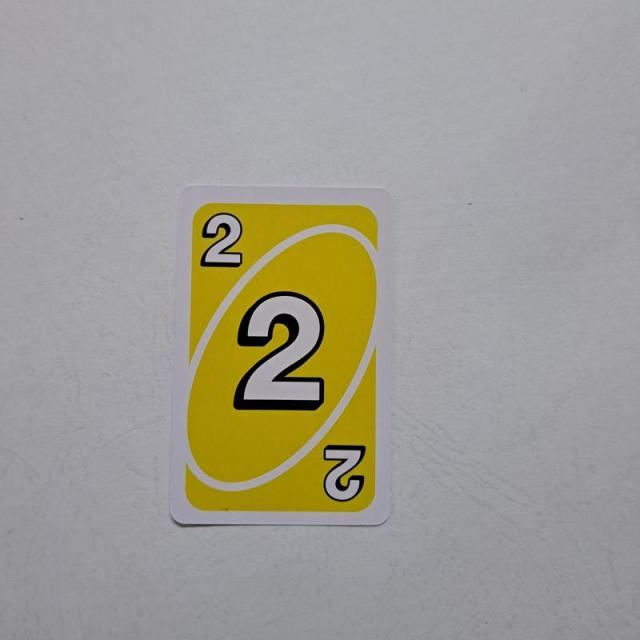Number_2: (200, 210, 246, 274)
Yellow_Card: (180, 200, 384, 516)
